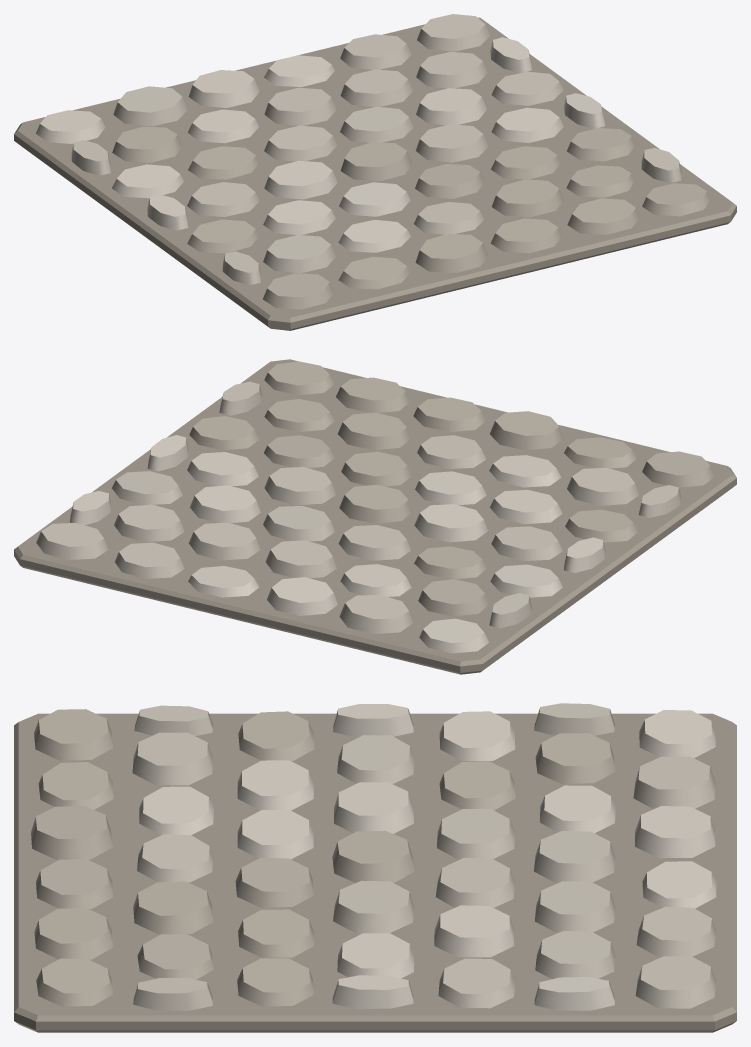
The model's file is cobblestone_tile.glb.
3 renders of one model, top to bottom at view 1: azimuth 30°, elevation 25°; view 2: azimuth 150°, elevation 25°; view 3: azimuth 270°, elevation 25°, orthographic. The views are drawn at different scales.
Parts seen in each view (by area): view 1: mortar_bed, cobble_1, cobble_41, cobble_21, cobble_22, cobble_33, cobble_9, cobble_23, cobble_36, cobble_10, cobble_5, cobble_2 (+34 smaller); view 2: mortar_bed, cobble_1, cobble_41, cobble_22, cobble_21, cobble_33, cobble_23, cobble_9, cobble_2, cobble_36, cobble_10, cobble_17 (+34 smaller); view 3: mortar_bed, cobble_41, cobble_1, cobble_33, cobble_23, cobble_22, cobble_36, cobble_2, cobble_17, cobble_9, cobble_5, cobble_10 (+34 smaller).
Boxes of the visible parts, <box> form: mortar_bed: <box>14,17,736,330</box>; cobble_1: <box>113,86,187,126</box>; cobble_41: <box>415,233,488,272</box>; cobble_21: <box>264,160,337,199</box>; cobble_22: <box>340,142,412,181</box>; cobble_33: <box>263,235,335,273</box>; cobble_9: <box>264,87,336,125</box>; cobble_23: <box>415,124,488,162</box>; cobble_36: <box>492,179,563,217</box>; cobble_10: <box>340,69,412,106</box>; cobble_5: <box>417,14,490,51</box>; cobble_2: <box>188,70,259,107</box>; mortar_bed: <box>14,359,736,674</box>; cobble_1: <box>339,594,412,634</box>; cobble_41: <box>490,411,563,450</box>; cobble_22: <box>339,484,412,523</box>; cobble_21: <box>414,504,487,542</box>; cobble_33: <box>567,467,638,505</box>; cobble_23: <box>264,467,335,505</box>; cobble_9: <box>265,540,336,578</box>; cobble_2: <box>267,577,337,615</box>; cobble_36: <box>337,412,410,450</box>; cobble_10: <box>188,522,260,560</box>; cobble_17: <box>190,485,260,522</box>; mortar_bed: <box>14,713,736,1032</box>; cobble_41: <box>31,806,112,860</box>; cobble_1: <box>633,756,715,809</box>; cobble_33: <box>132,732,212,785</box>; cobble_23: <box>333,880,414,933</box>; cobble_22: <box>332,830,414,883</box>; cobble_36: <box>133,881,213,934</box>; cobble_2: <box>635,806,715,858</box>; cobble_17: <box>434,905,514,957</box>; cobble_9: <box>534,831,615,883</box>; cobble_5: <box>635,956,716,1008</box>; cobble_10: <box>534,881,615,933</box>.
Size of the model in its own units: 3 by 0.1659 by 3.
